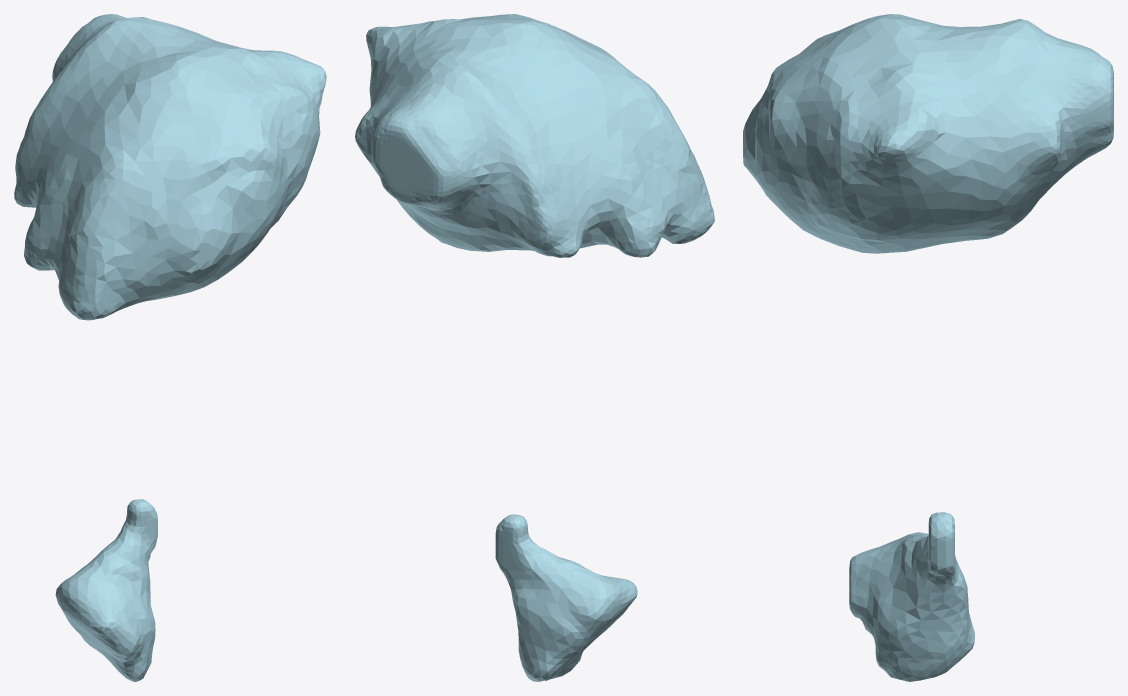
Rendered from metastasectomie.obj.
3 views of the same model, side by side, from view 1: azimuth 30°, elevation 25°; view 2: azimuth 150°, elevation 25°; view 3: azimuth 270°, elevation 25° (orthographic). The views are drawn at different scales.
Parts seen in each view (by area): view 1: grp1; view 2: grp1; view 3: grp1.
Part boxes in pixels (x1,y1,x2,y2): grp1: (14, 14, 326, 681); grp1: (355, 14, 714, 681); grp1: (743, 14, 1113, 681).
Bounding box in the file's own units: 45.05 × 90.72 × 44.8.
